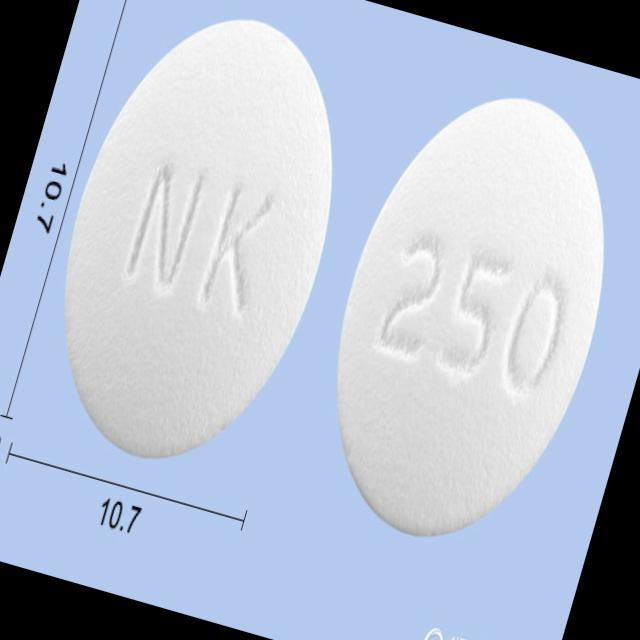Ciproc: (284, 56, 640, 578), (13, 0, 384, 497)
